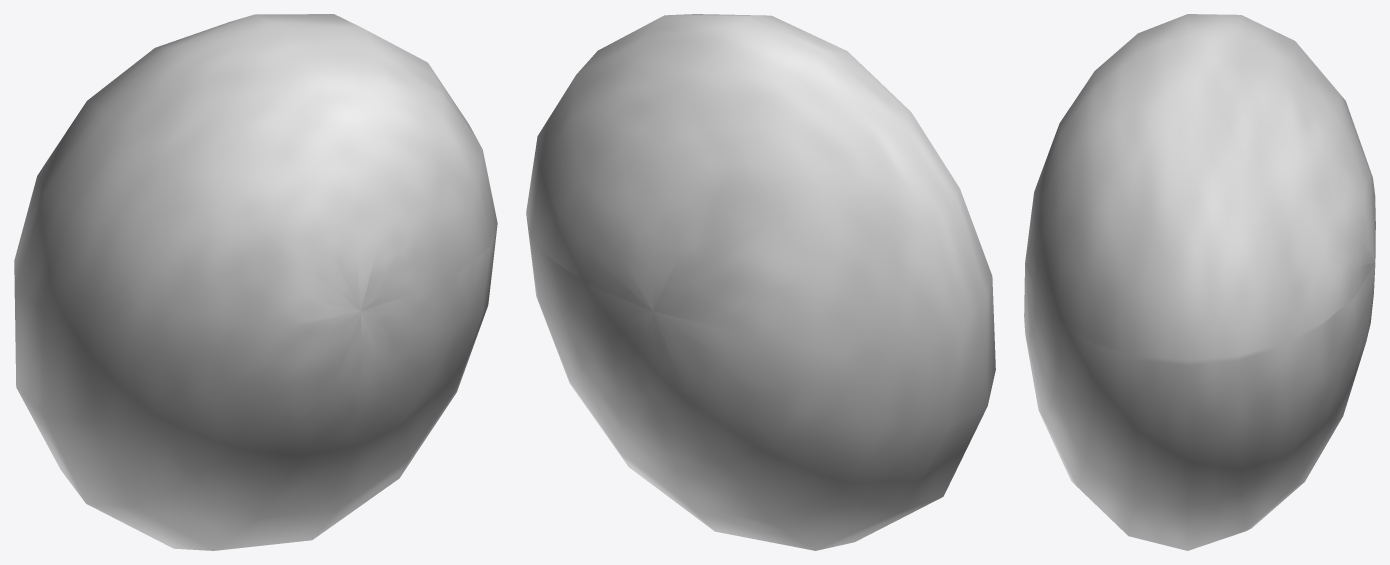
File: pongdu_vp_gas.obj
3 views of the same model, side by side, from view 1: azimuth 30°, elevation 25°; view 2: azimuth 150°, elevation 25°; view 3: azimuth 270°, elevation 25° (orthographic).
Parts seen in each view (by area): view 1: pongdu_vp_gas; view 2: pongdu_vp_gas; view 3: pongdu_vp_gas.
Part boxes in pixels (x1,y1,x2,y2): pongdu_vp_gas: (14, 14, 497, 550); pongdu_vp_gas: (526, 14, 995, 550); pongdu_vp_gas: (1024, 14, 1375, 550).
Bounding box in the file's own units: 3.27 × 3.57 × 2.23.
1 material, 1 textured.
